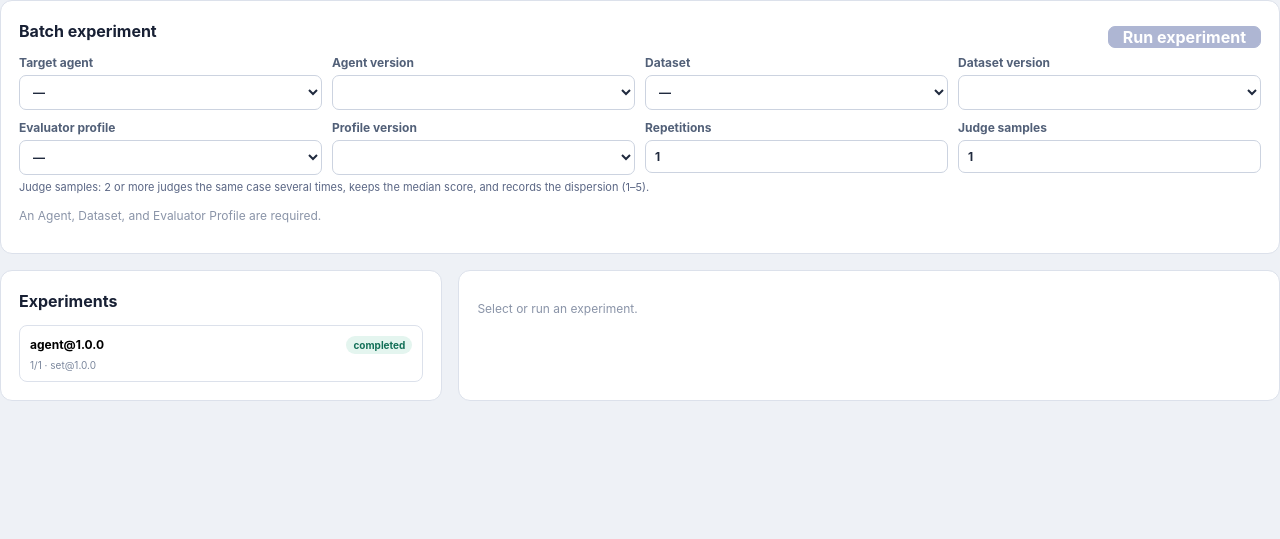
ExperimentsTab の実行/実験の状態語 › 境界: 英語表示（既定）ではこれまでどおり状態語の値をそのまま出す
Expected: the text "completed" is shown, x1=346 y1=336 x2=412 y2=354
Click the button "agent@1.0.0 completed 1/1 · set@1.0.0": (47, 344) x1=19 y1=324 x2=423 y2=382
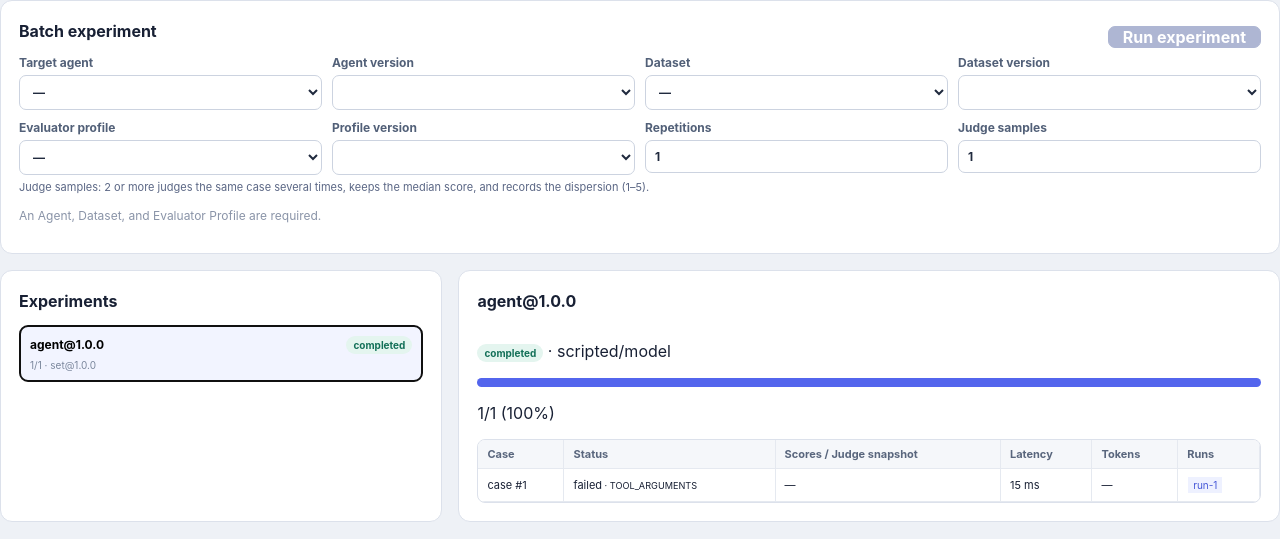
Expected: the text "failed" is shown, x1=574 y1=478 x2=602 y2=492
